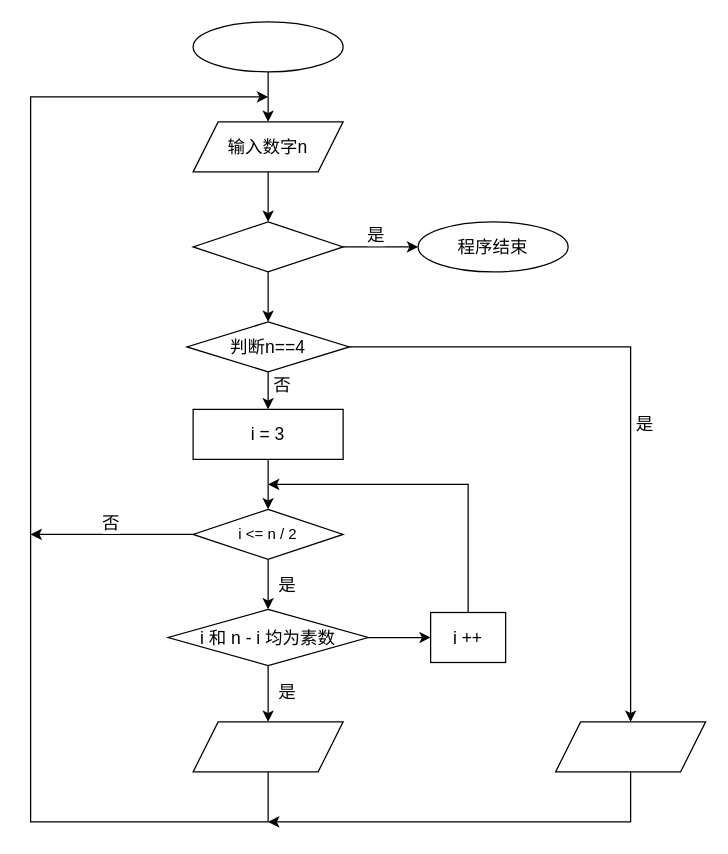
Image size: 728x854. Some labels were removed from this diagram. The centre of each missing label's shape, as x and y in pixels:
"是否为EOF" belongs at point (267, 246).
"程序开始" belongs at point (267, 46).
"输出4=2+2" belongs at point (630, 746).
"输出n=i+(n-i)" belongs at point (267, 746).
